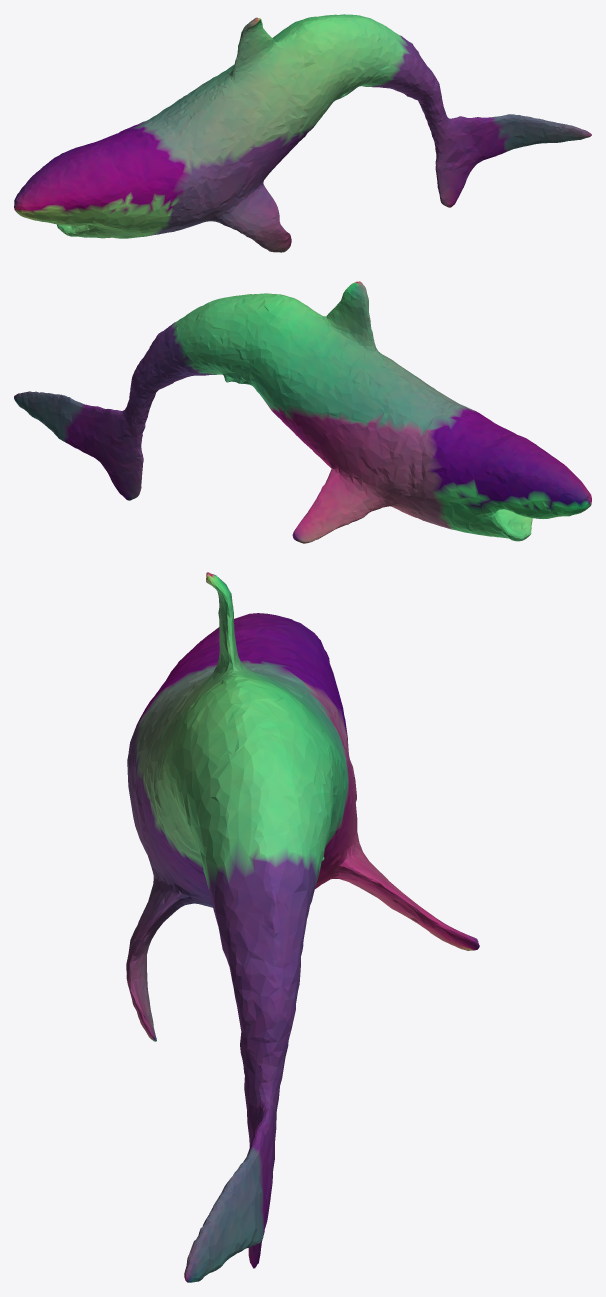
File: shark-4.off.obj
3 views of the same model, one above another, from view 1: azimuth 30°, elevation 25°; view 2: azimuth 150°, elevation 25°; view 3: azimuth 270°, elevation 25° (orthographic). The views are drawn at different scales.
Bounding box in the file's own units: 1.49 × 0.6292 × 0.4072.
